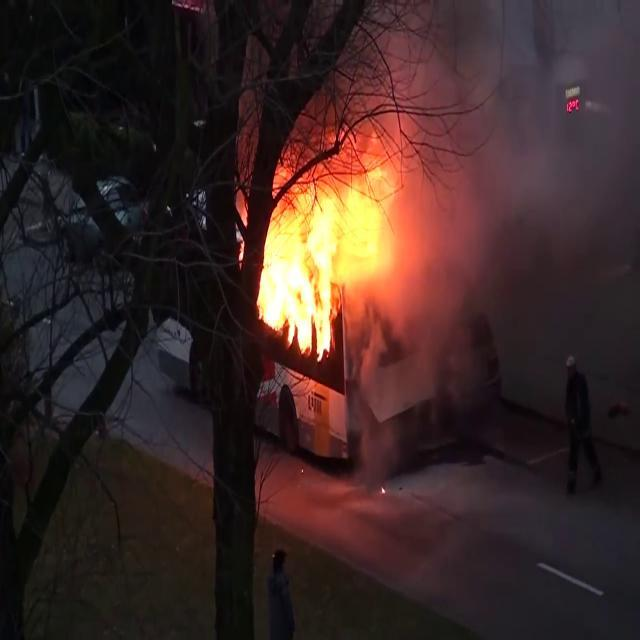Fire: (252, 162, 414, 362)
Smoke: (368, 0, 640, 389)
